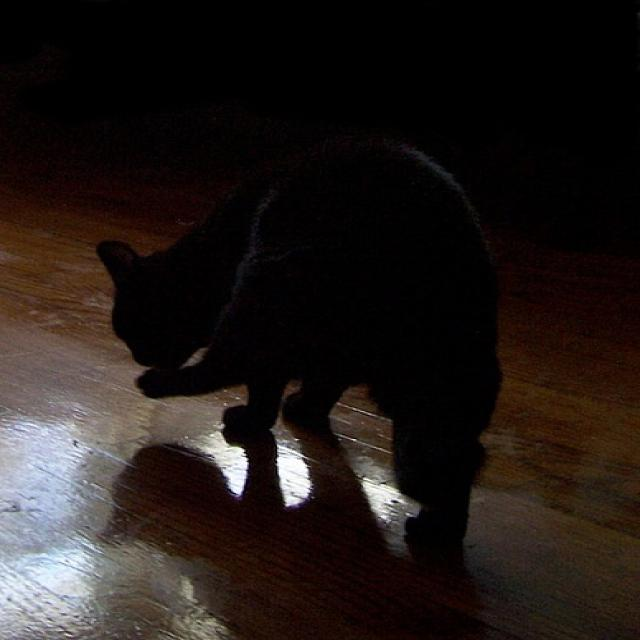Cat: (74, 110, 518, 561)
